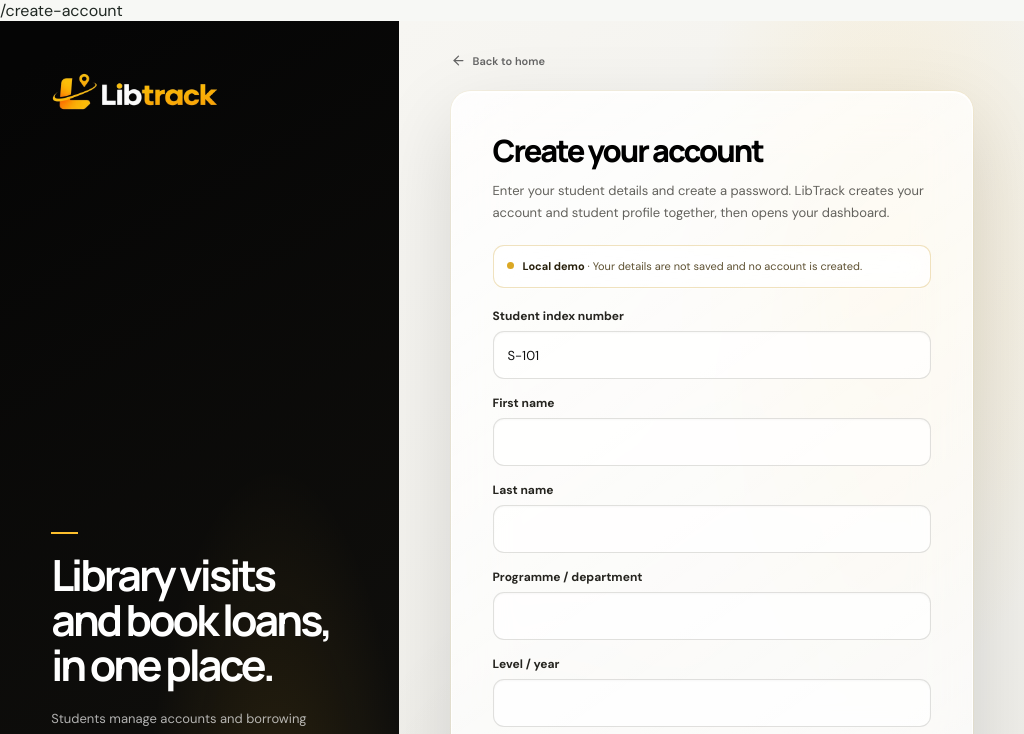
it: LibTrack account screens › opens the local workspace after a valid demo account form without saving credentials
Earlier steps of the test are not shown.
In the field labelled "First name": (712, 442) left=492, top=418, right=931, bottom=466, type "Jordan"
In the field labelled "Last name": (712, 529) left=492, top=505, right=931, bottom=553, type "Mensah"
In the field labelled "Programme / department": (712, 616) left=492, top=592, right=931, bottom=640, type "Computer Science"
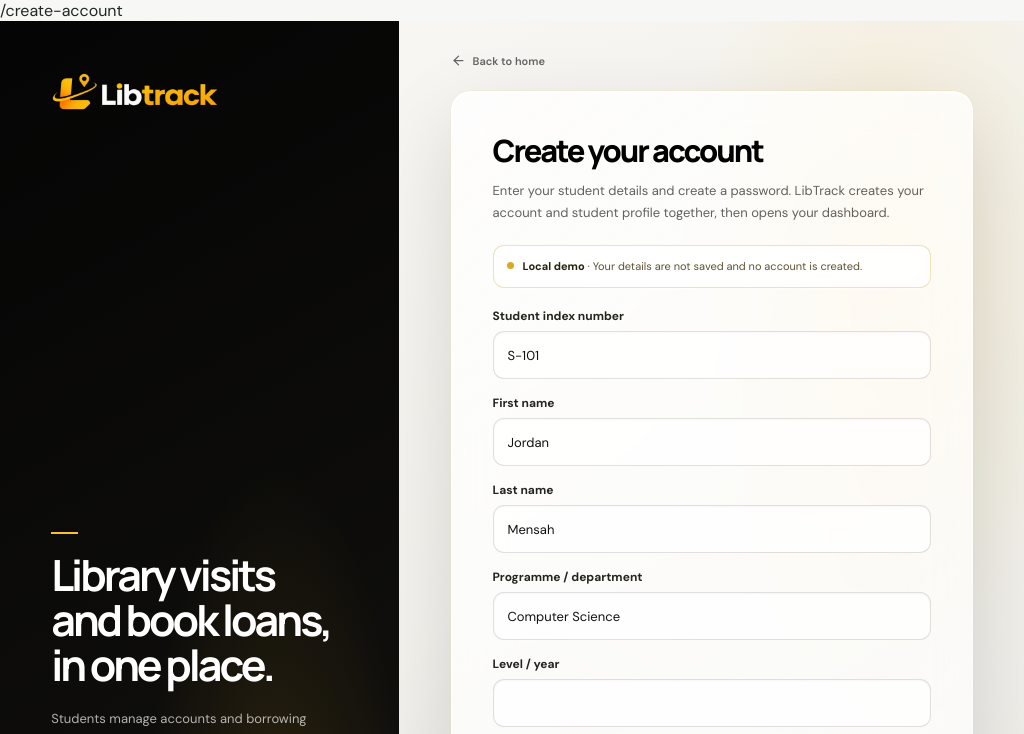
In the field labelled "Level / year": (712, 703) left=492, top=679, right=931, bottom=727, type "Level 300"
(page scrolled)
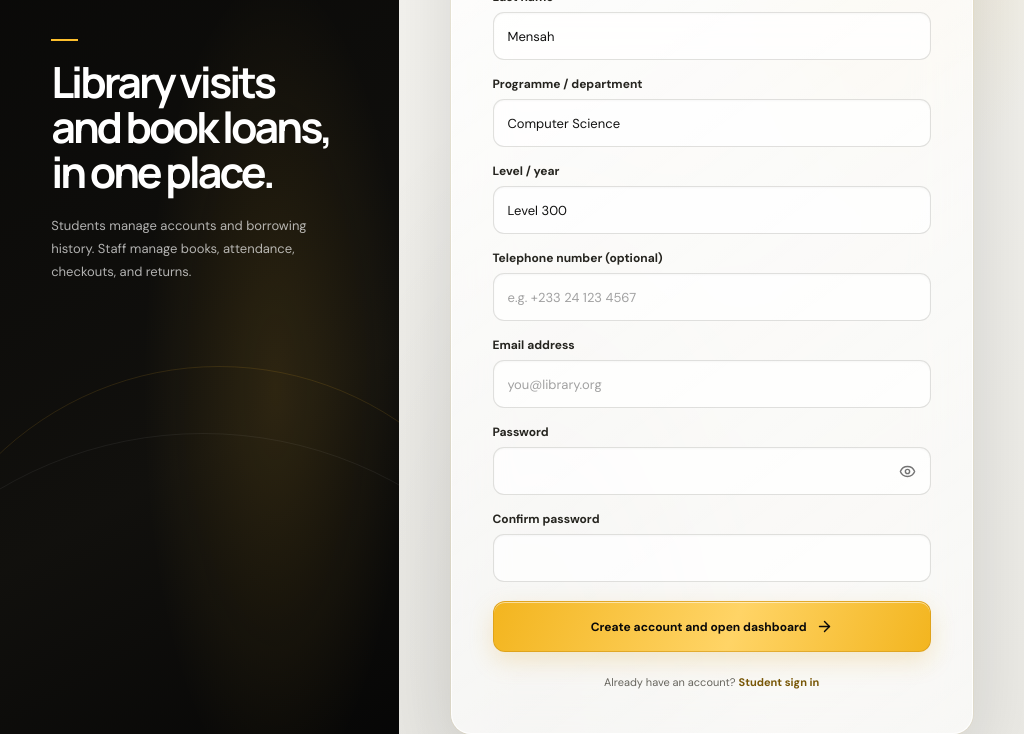
In the field labelled "Email address": (712, 384) left=492, top=360, right=931, bottom=408, type "jordan@example.test"
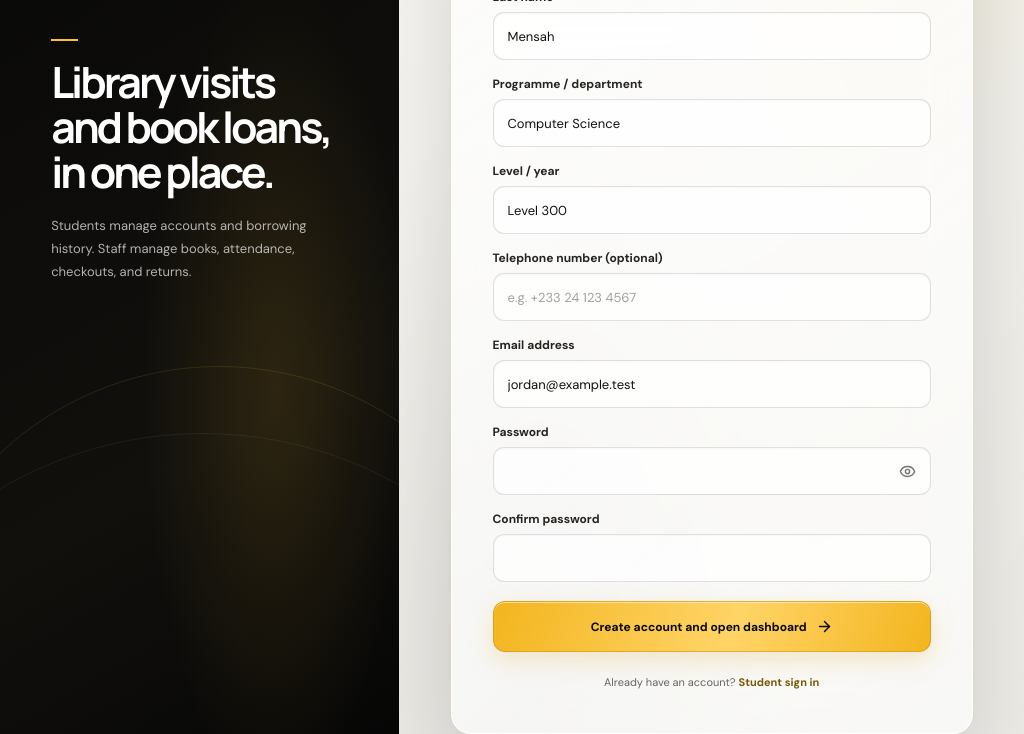
In the password field labelled "Password": (712, 471) left=492, top=447, right=931, bottom=495, type "password8"
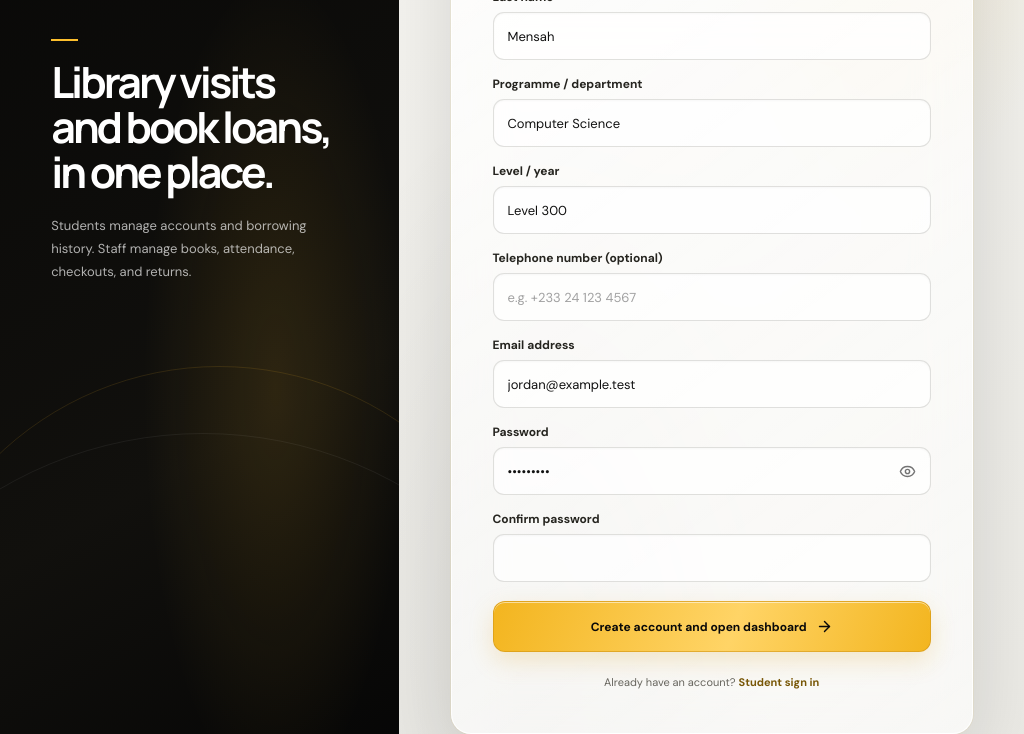
In the password field labelled "Confirm password": (712, 558) left=492, top=534, right=931, bottom=582, type "password8"
(page scrolled)
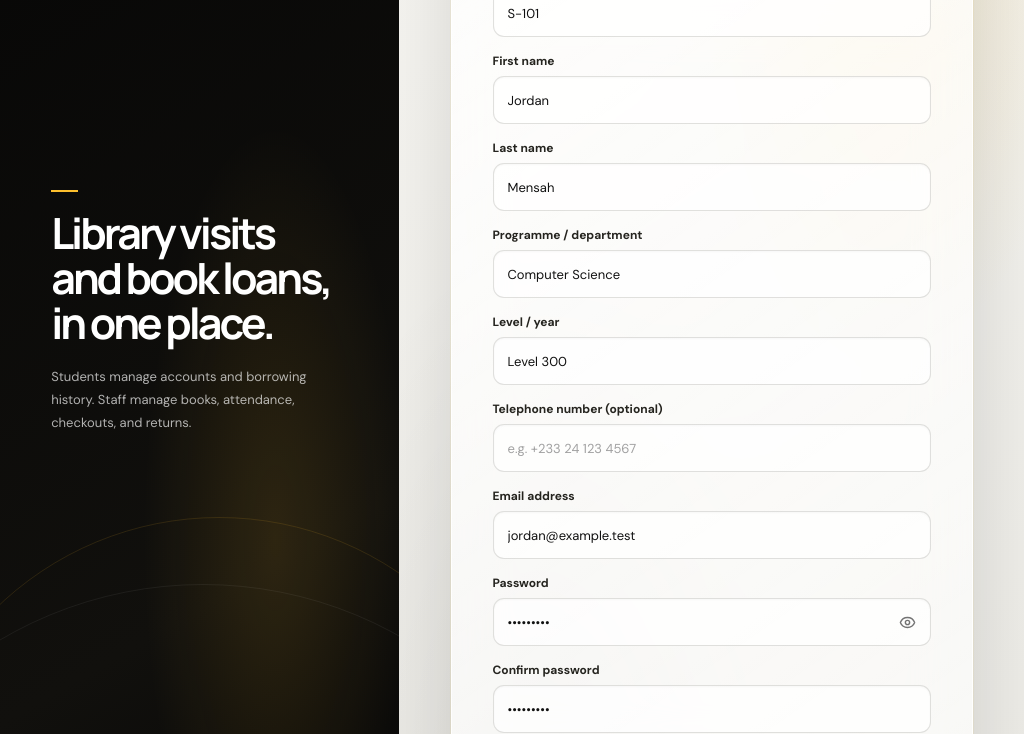
Submit the form named "Create your account"
(page scrolled)
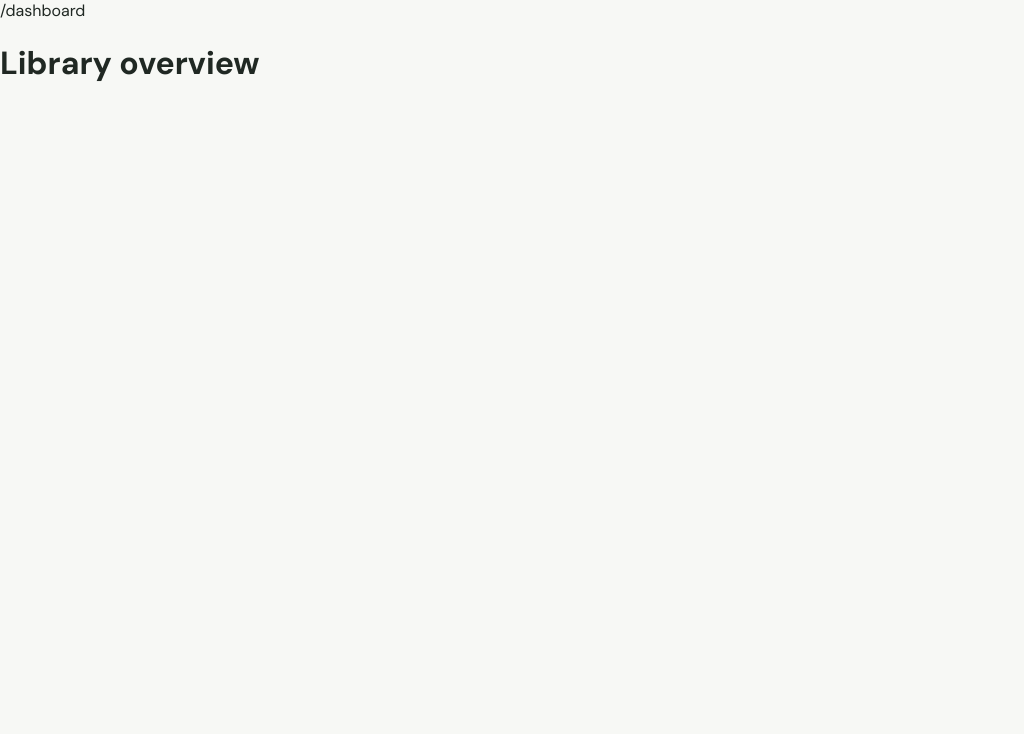
Expected: the heading "Library overview" is shown, left=0, top=42, right=260, bottom=84
